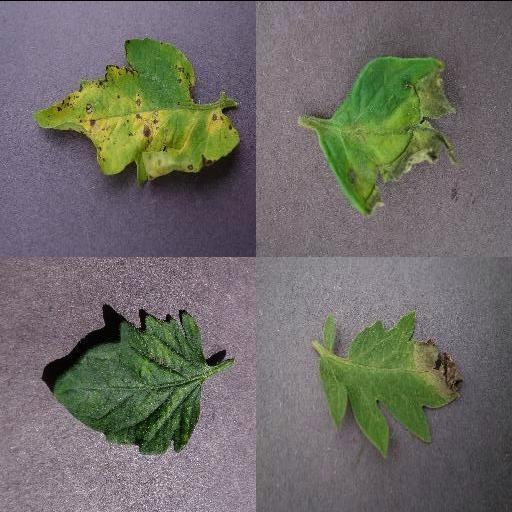Late Blight: (311, 54, 459, 216), (319, 314, 467, 460)
Mosaic Virus: (53, 308, 205, 454)
Septoria: (31, 39, 243, 187)
